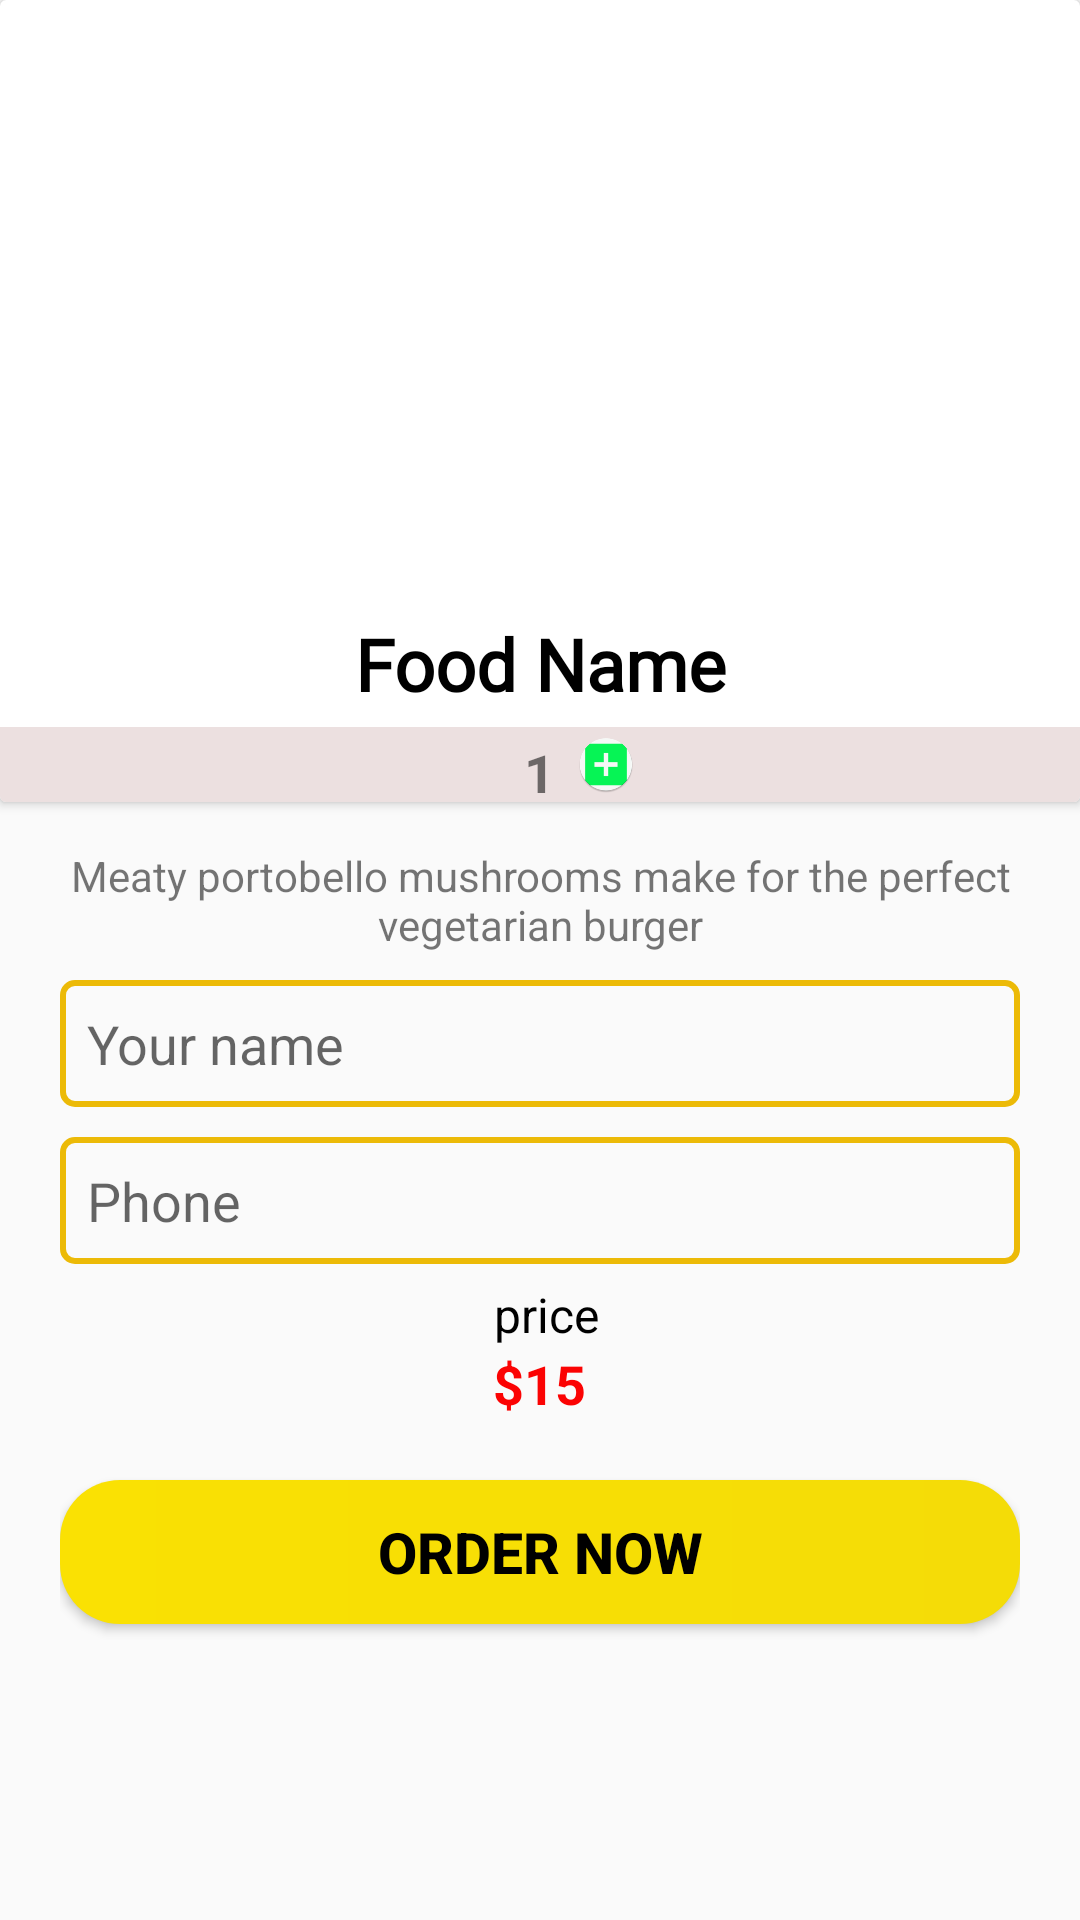

Icons on this 1080*1920 Android screen, each with its box as (x1, y1, x2, y2):
plus item: (580, 739, 632, 792)
